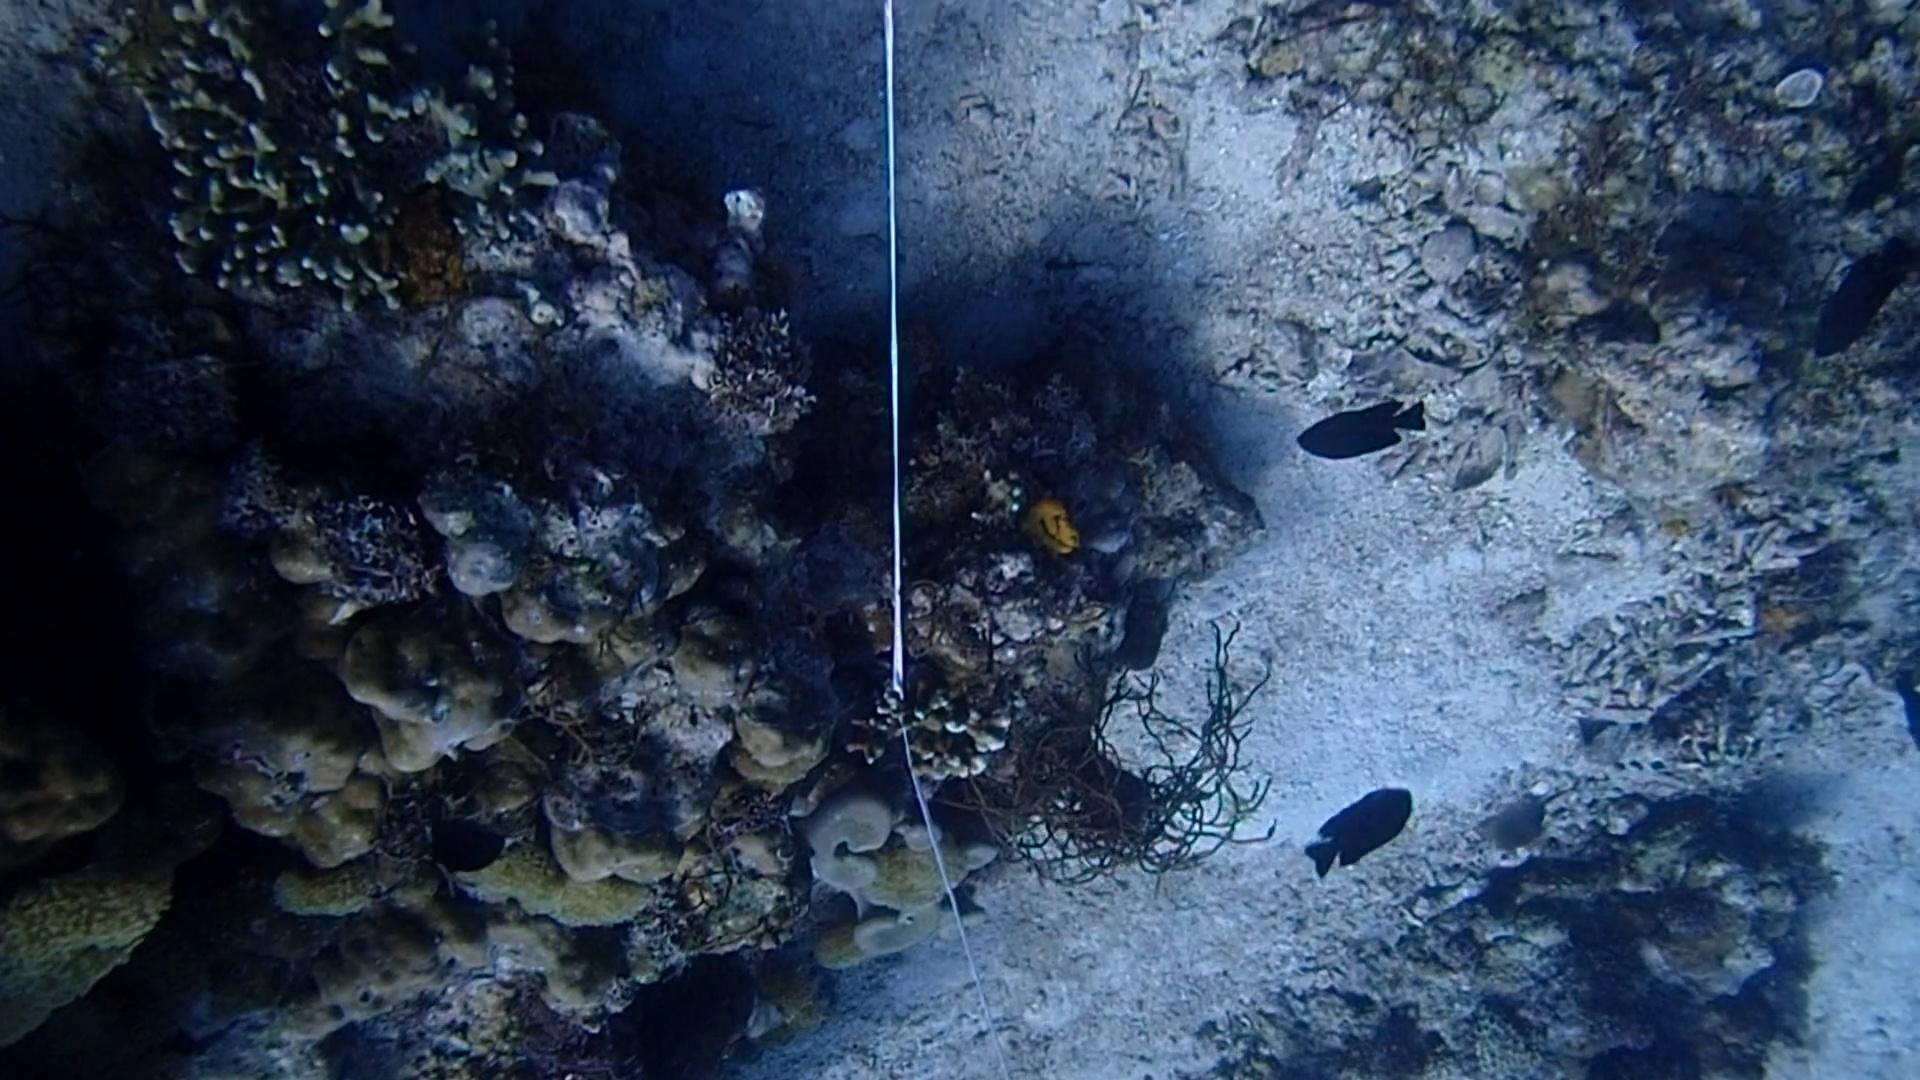Dark Fish: (1296, 774, 1423, 885), (1811, 239, 1920, 357), (1283, 404, 1423, 483), (1822, 133, 1917, 231)
Light Fish: (1466, 787, 1560, 868)
